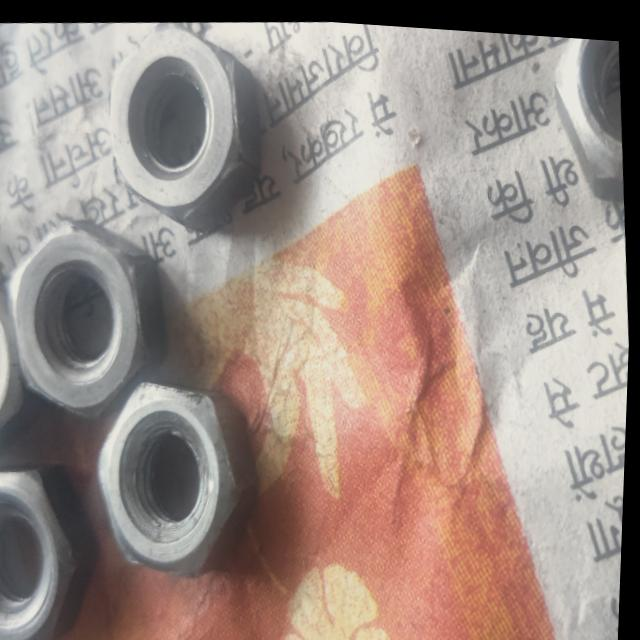disinfected nut: (110, 22, 261, 228), (101, 379, 259, 573), (11, 220, 166, 414), (0, 465, 100, 640), (555, 30, 625, 191), (0, 289, 26, 432)
